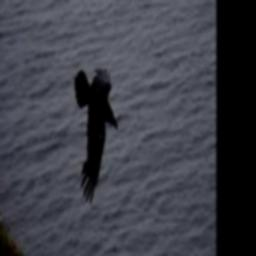Crow: (74, 64, 118, 204)
